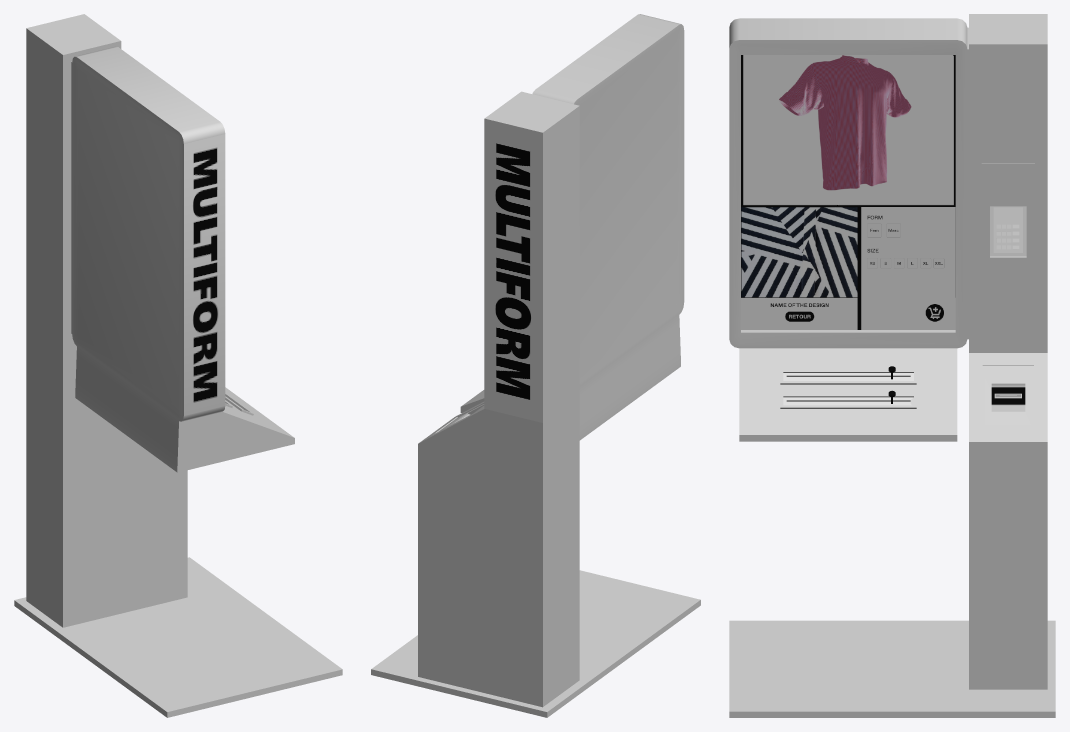
The model's file is bornes-interactives.gltf.
The picture shows the model from 3 angles, left to right: view 1: azimuth 30°, elevation 25°; view 2: azimuth 150°, elevation 25°; view 3: azimuth 270°, elevation 25°; orthographic projection. The views are drawn at different scales.
Visible parts, largest first — view 1: Cube.1-Mat.2, Cube.1-Mat.3; view 2: Cube.1-Mat.2, Cube.1-Mat.3; view 3: Cube.1-Mat.2, Cube.1-PBR, Cube.1-Métal (×3), Cube.1-Mat.
Boxes of the visible parts, x1=… form: Cube.1-Mat.2: x1=14, y1=14, x2=342, y2=717; Cube.1-Mat.3: x1=184, y1=134, x2=225, y2=415; Cube.1-Mat.2: x1=371, y1=14, x2=700, y2=717; Cube.1-Mat.3: x1=484, y1=118, x2=542, y2=422; Cube.1-Mat.2: x1=729, y1=14, x2=1055, y2=717; Cube.1-PBR: x1=741, y1=55, x2=955, y2=329; Cube.1-Métal (×3): x1=783, y1=207, x2=1022, y2=405; Cube.1-Mat: x1=991, y1=387, x2=1025, y2=404.
Bounding box in the file's own units: 63.5 × 200 × 95.98.
Materials: 5 (2 with a texture image).
